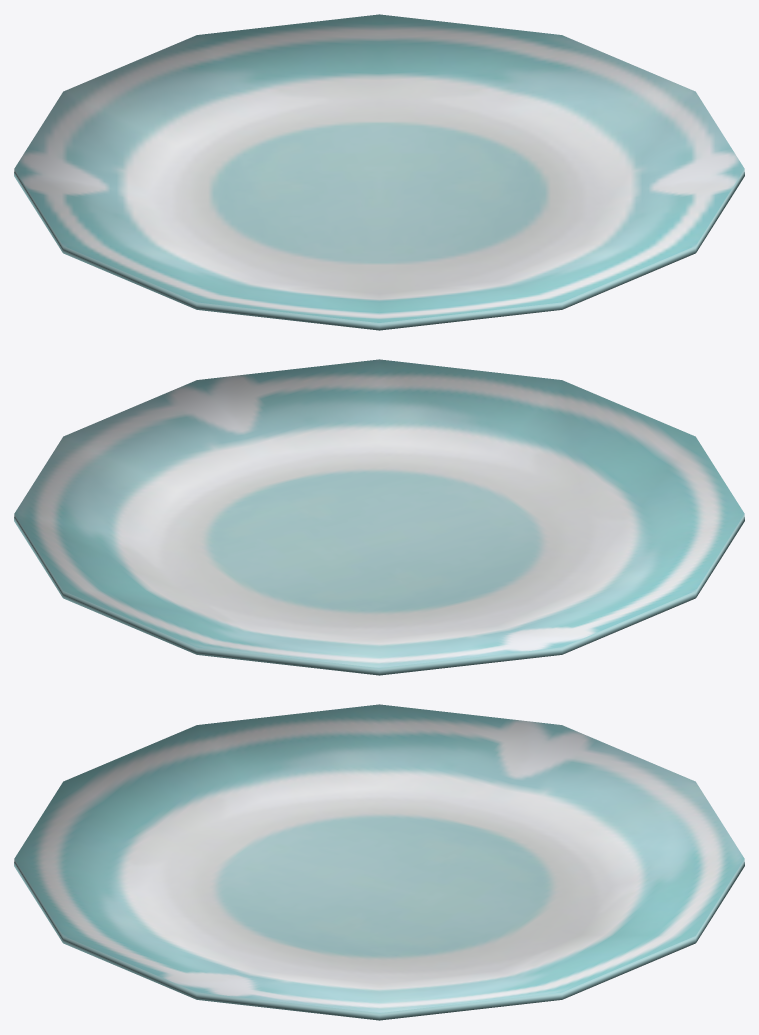
The model's file is HuBian_01_panzi_01.FBX.
3 views of the same model, one above another, from view 1: azimuth 30°, elevation 25°; view 2: azimuth 150°, elevation 25°; view 3: azimuth 270°, elevation 25° (orthographic).
Parts seen in each view (by area): view 1: HuBian_01_panzi_01; view 2: HuBian_01_panzi_01; view 3: HuBian_01_panzi_01.
Part boxes in pixels (x1,y1,x2,y2): HuBian_01_panzi_01: [14, 14, 744, 330]; HuBian_01_panzi_01: [14, 359, 744, 675]; HuBian_01_panzi_01: [14, 704, 744, 1020].
Size of the model in its own units: 222 by 11.53 by 222.
Materials: 1 (1 with a texture image).
